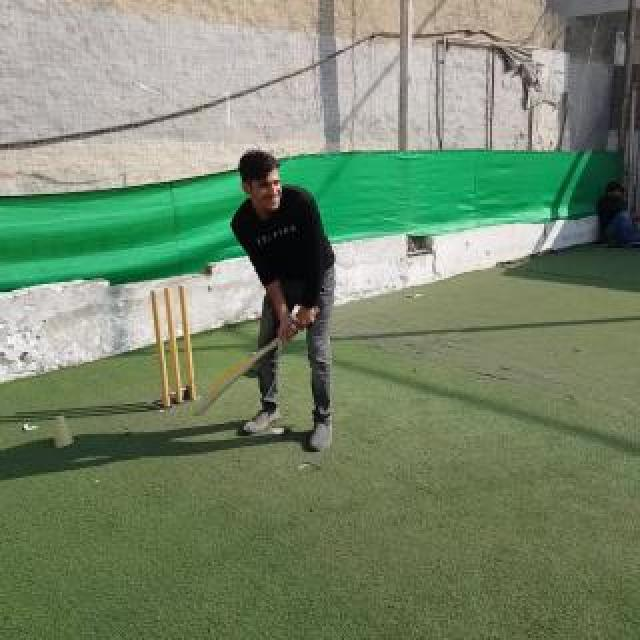bat: (194, 306, 322, 418)
